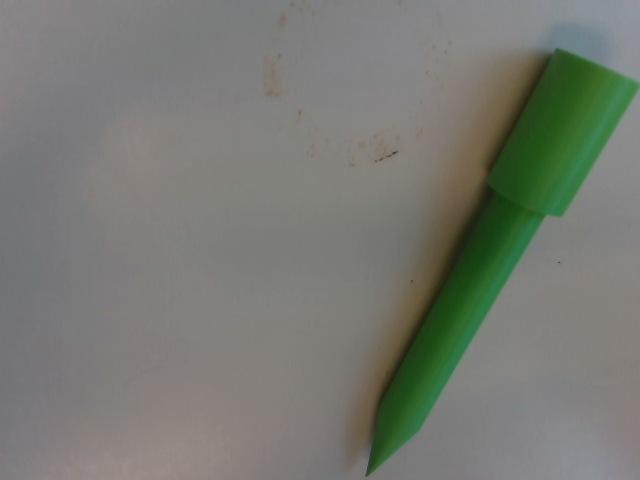Probe: (357, 38, 640, 478)
